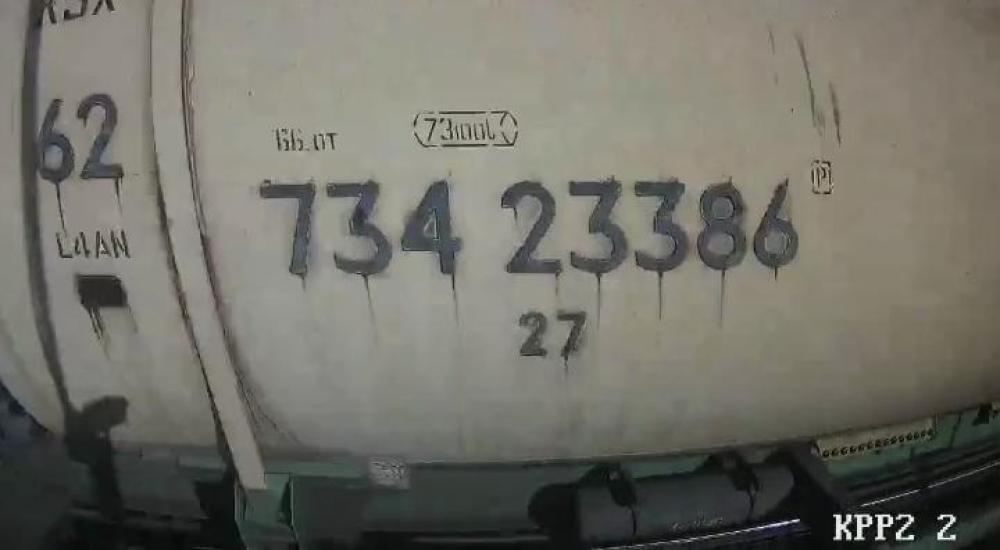Wagon-number: (255, 168, 812, 283)
